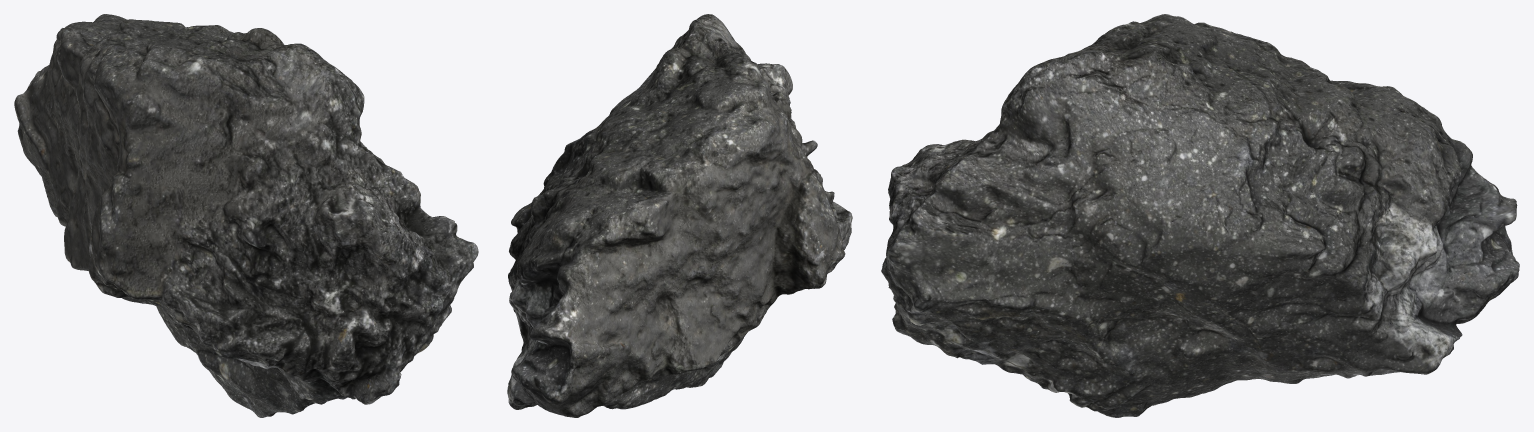
File: rock-79115.glb
3 renders of one model, left to right at view 1: azimuth 30°, elevation 25°; view 2: azimuth 150°, elevation 25°; view 3: azimuth 270°, elevation 25°, orthographic. The views are drawn at different scales.
Size of the model in its own units: 0.044 by 0.0583 by 0.0893.
1 material, 1 textured.
